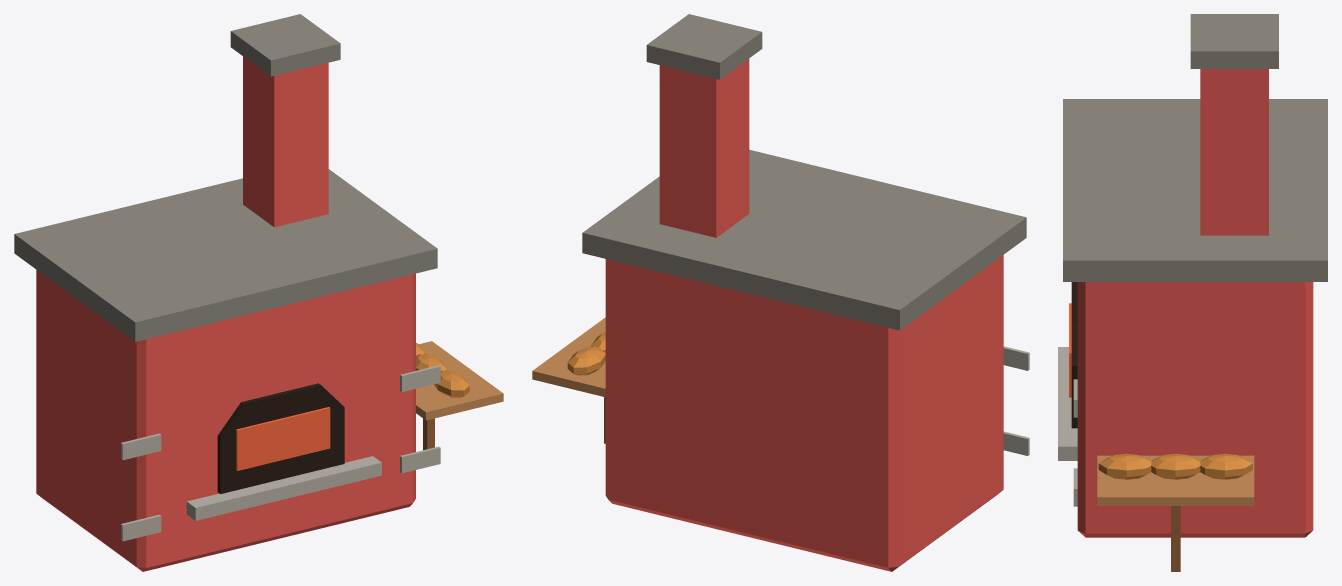
File: station_bakery_oven.glb
The picture shows the model from 3 angles, left to right: view 1: azimuth 30°, elevation 25°; view 2: azimuth 150°, elevation 25°; view 3: azimuth 270°, elevation 25°; orthographic projection. The views are drawn at different scales.
Parts seen in each view (by area): view 1: station_bakery_oven; view 2: station_bakery_oven; view 3: station_bakery_oven.
Boxes of the visible parts, x1=… form: station_bakery_oven: x1=14, y1=14, x2=503, y2=571; station_bakery_oven: x1=532, y1=14, x2=1029, y2=571; station_bakery_oven: x1=1058, y1=14, x2=1327, y2=571.
Bounding box in the file's own units: 2.53 × 2.67 × 1.38.
